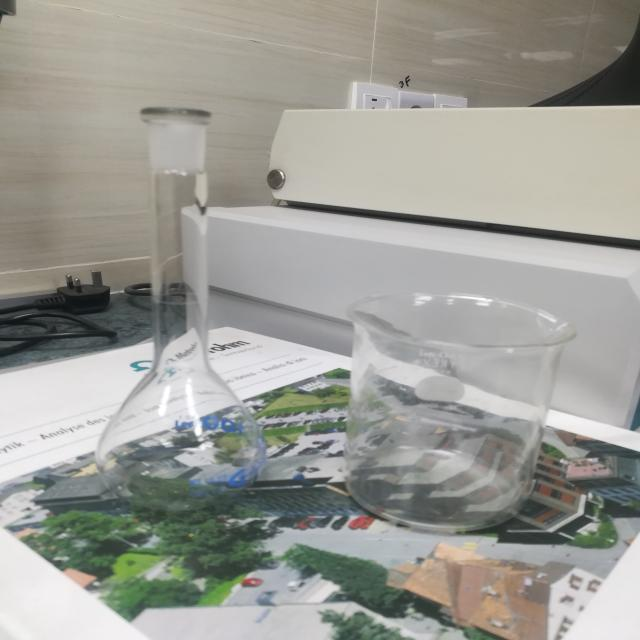Beaker: (334, 267, 583, 560)
Volumetric_Flask: (50, 88, 297, 508)
